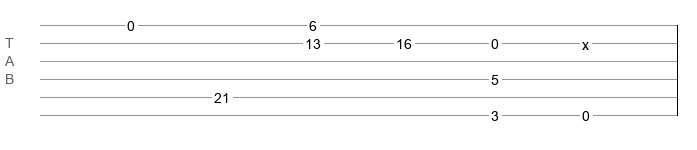0: (127, 18, 135, 28), (491, 36, 499, 46), (582, 108, 590, 118)
13: (305, 36, 321, 46)
16: (396, 36, 412, 46)
21: (214, 90, 230, 100)
3: (491, 108, 499, 118)
5: (491, 72, 499, 82)
6: (309, 18, 317, 28)
x: (582, 37, 589, 45)
